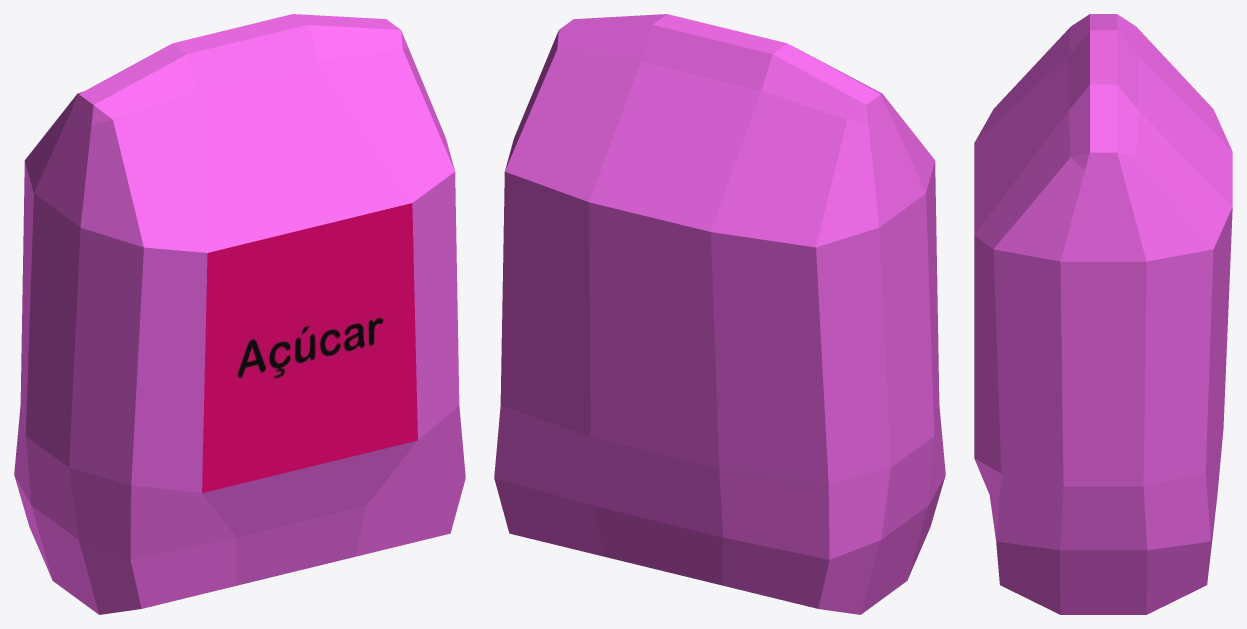
File: SacoDeAcucar.fbx
The picture shows the model from 3 angles, left to right: view 1: azimuth 30°, elevation 25°; view 2: azimuth 150°, elevation 25°; view 3: azimuth 270°, elevation 25°; orthographic projection. The views are drawn at different scales.
Visible parts, largest first — view 1: SacoDeAcuca; view 2: SacoDeAcuca; view 3: SacoDeAcuca.
Part boxes in pixels (<box>): SacoDeAcuca: <box>14,14,465,614</box>; SacoDeAcuca: <box>494,14,945,614</box>; SacoDeAcuca: <box>974,14,1232,614</box>.
Bounding box in the file's own units: 34.48 × 44.8 × 21.7.
Materials: 2 (2 with a texture image).
